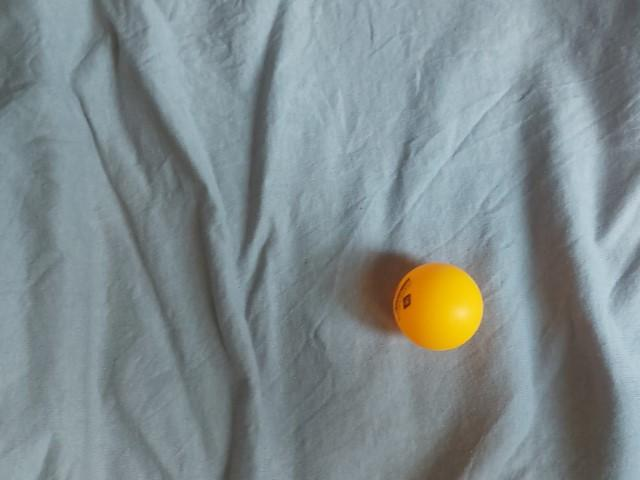oball: (149, 124, 252, 224)
